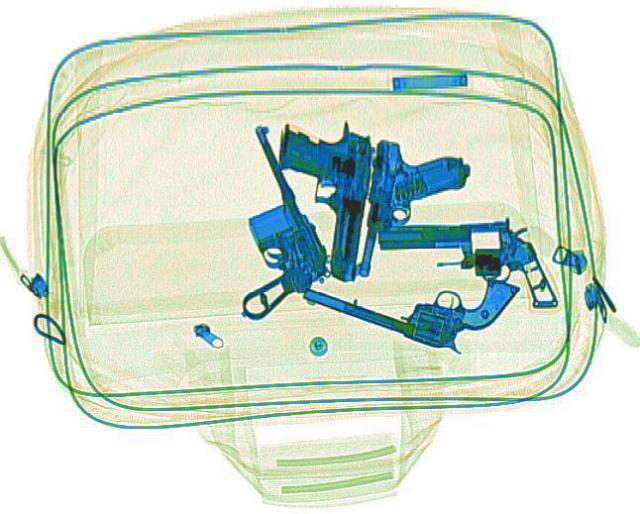Gun: (160, 120, 350, 319), (296, 222, 520, 360), (258, 113, 378, 282), (351, 135, 475, 283), (374, 214, 556, 310)
